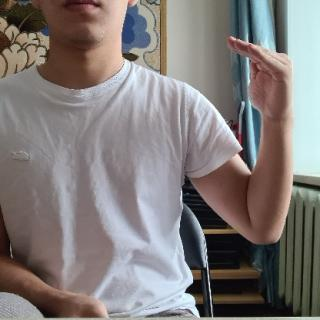HAA: (226, 28, 298, 126)
